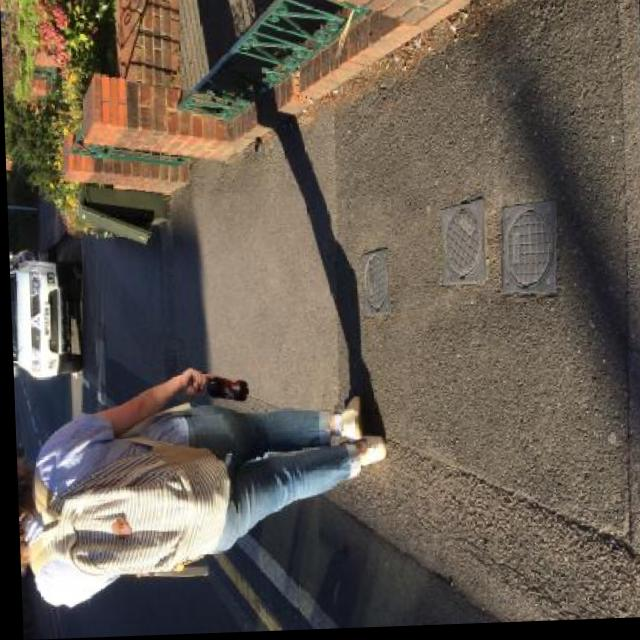plastic: (195, 375, 252, 403)
